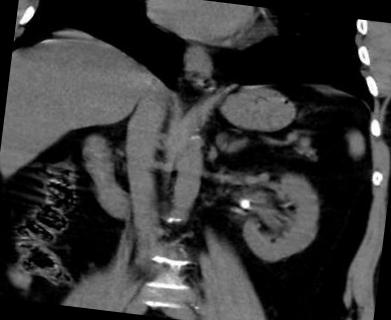Tas_Var: (238, 196, 252, 212)
